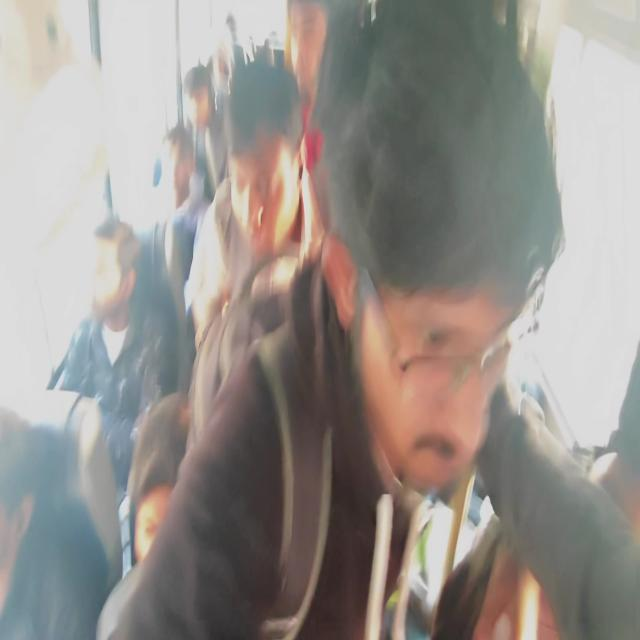person: (364, 86, 546, 502), (125, 418, 212, 600), (223, 103, 315, 268), (597, 366, 640, 632), (0, 420, 25, 640), (92, 226, 138, 336), (157, 132, 203, 206), (181, 70, 216, 140), (214, 36, 242, 96)
